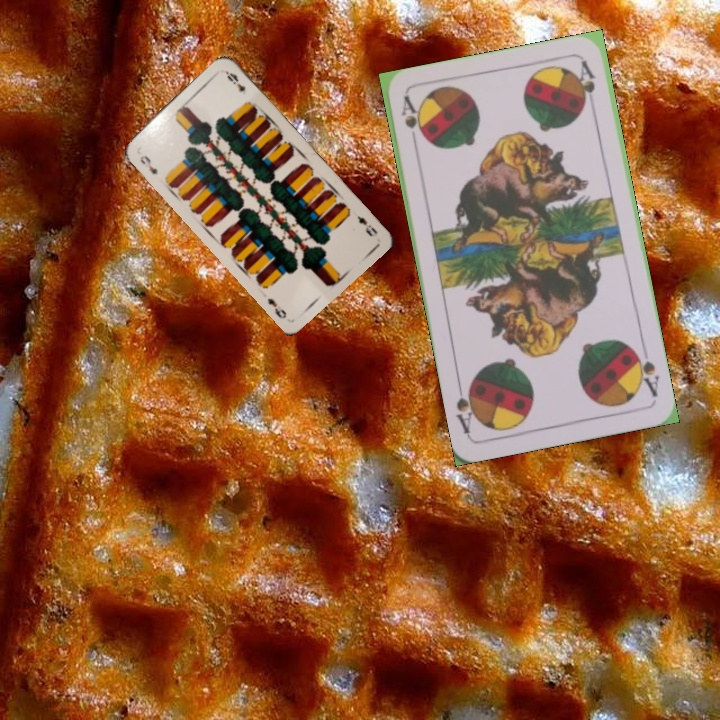E9: (353, 211, 380, 239), (136, 151, 161, 178)
SA: (629, 344, 662, 399), (397, 93, 425, 152)
